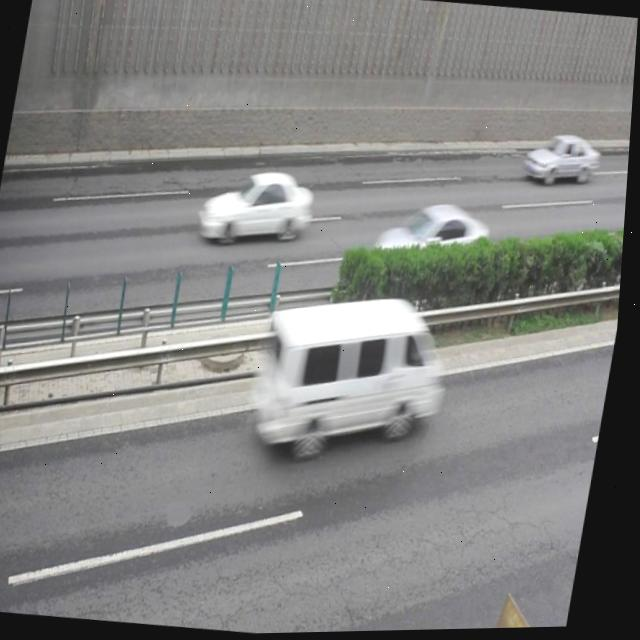car: (371, 197, 494, 292), (195, 164, 321, 252), (520, 129, 605, 191)
truck: (249, 285, 460, 471)
